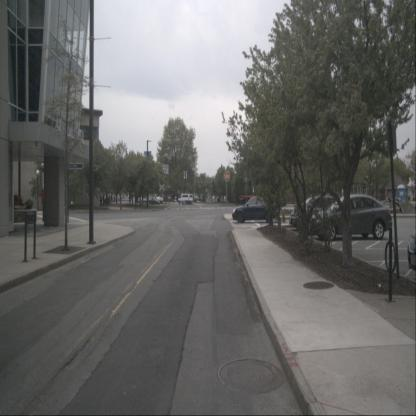vehicle-car: (309, 194, 392, 242), (289, 195, 350, 231), (232, 197, 278, 224), (178, 194, 193, 204), (149, 197, 161, 205)
